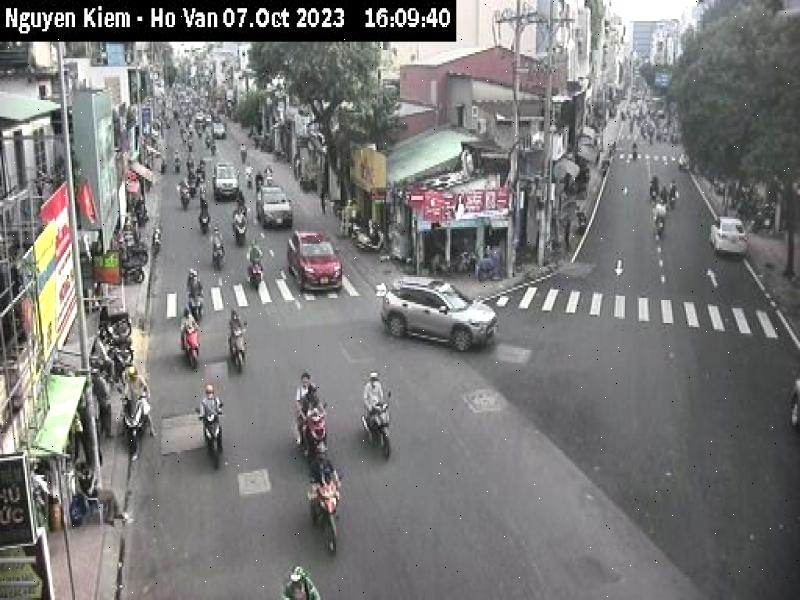car: (376, 275, 502, 367), (289, 219, 337, 304), (709, 207, 749, 264), (255, 180, 296, 226)
motorcycle: (308, 472, 354, 554), (358, 390, 399, 460), (194, 396, 230, 468)
